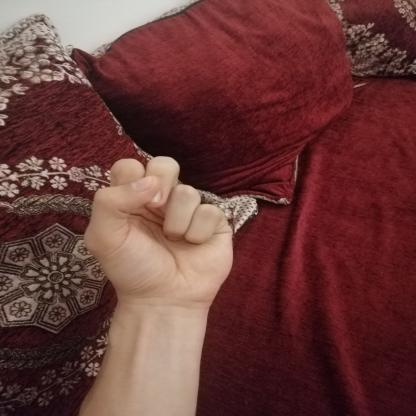QAAF: (68, 146, 249, 315)
